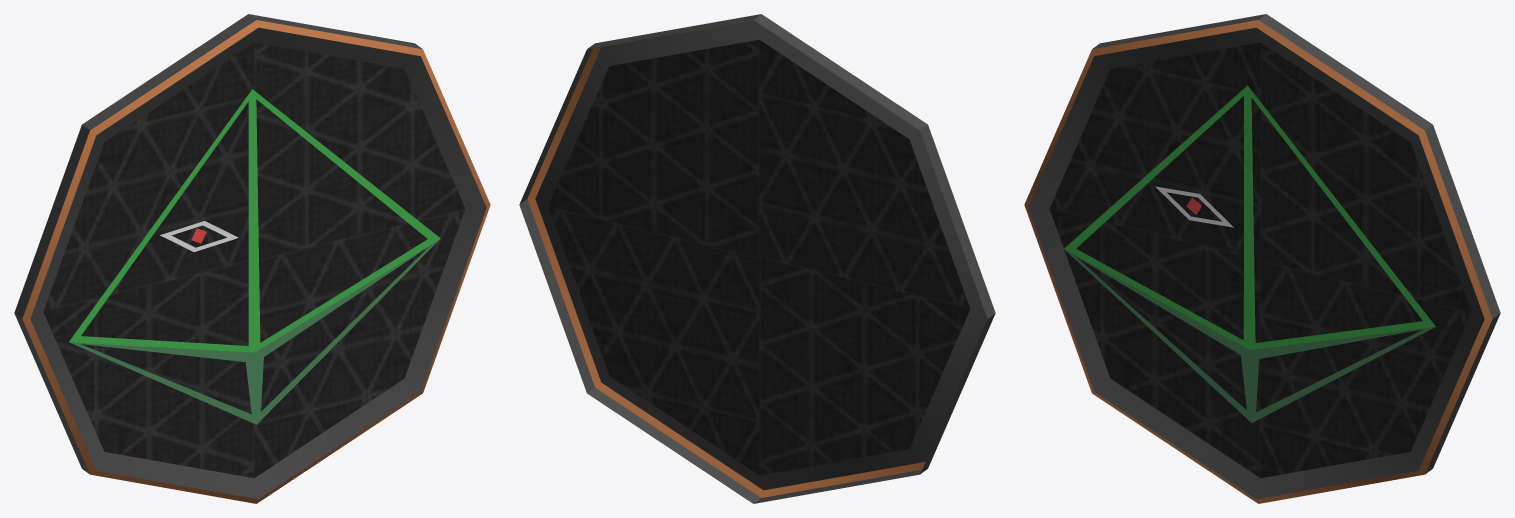
The model's file is ad06-art.glb.
3 views of the same model, side by side, from view 1: azimuth 30°, elevation 25°; view 2: azimuth 150°, elevation 25°; view 3: azimuth 330°, elevation 25° (orthographic).
Visible parts, largest first — view 1: Ad06_Art; view 2: Ad06_Art; view 3: Ad06_Art.
Boxes of the visible parts, bbox=[...] form: Ad06_Art: bbox=[14, 14, 490, 503]; Ad06_Art: bbox=[519, 14, 995, 503]; Ad06_Art: bbox=[1024, 14, 1500, 503].
Size of the model in its own units: 7.03 by 6.95 by 0.2979.
1 material, 1 textured.
